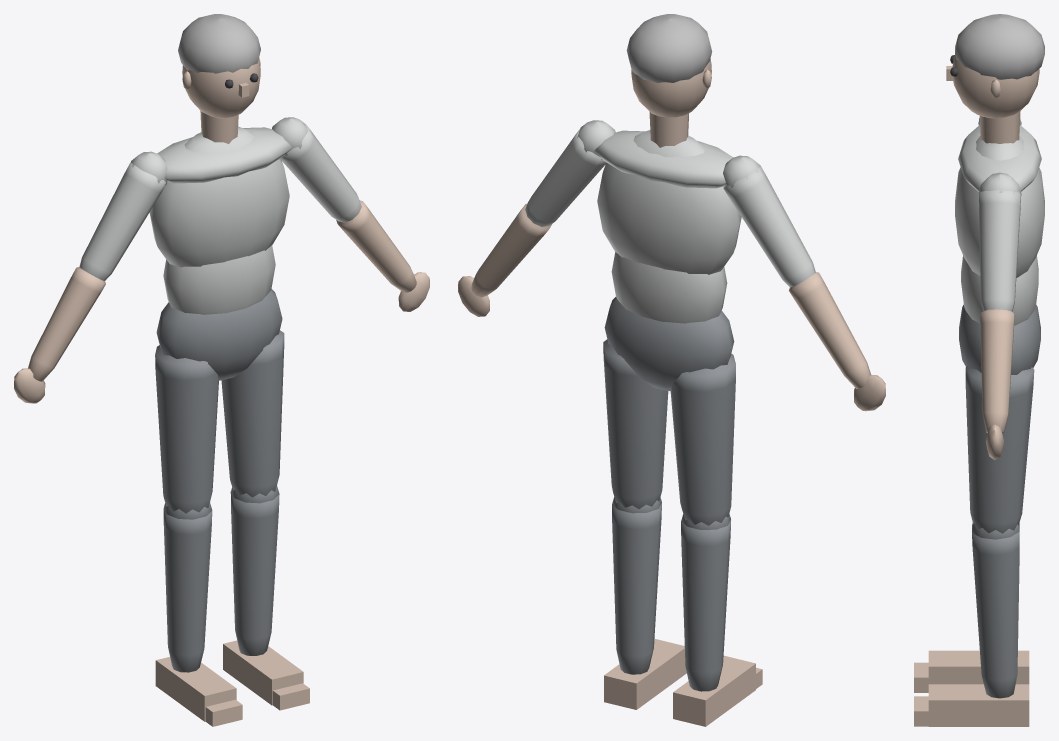
File: Tomas.glb
The picture shows the model from 3 angles, left to right: view 1: azimuth 30°, elevation 25°; view 2: azimuth 150°, elevation 25°; view 3: azimuth 270°, elevation 25°; orthographic projection. The views are drawn at different scales.
Parts seen in each view (by area): view 1: Tomas; view 2: Tomas; view 3: Tomas.
Boxes of the visible parts, left/top/right/bottom form: Tomas: left=14, top=14, right=429, bottom=726; Tomas: left=458, top=14, right=885, bottom=726; Tomas: left=914, top=14, right=1044, bottom=726.
Size of the model in its own units: 1.21 by 1.85 by 0.3212.
